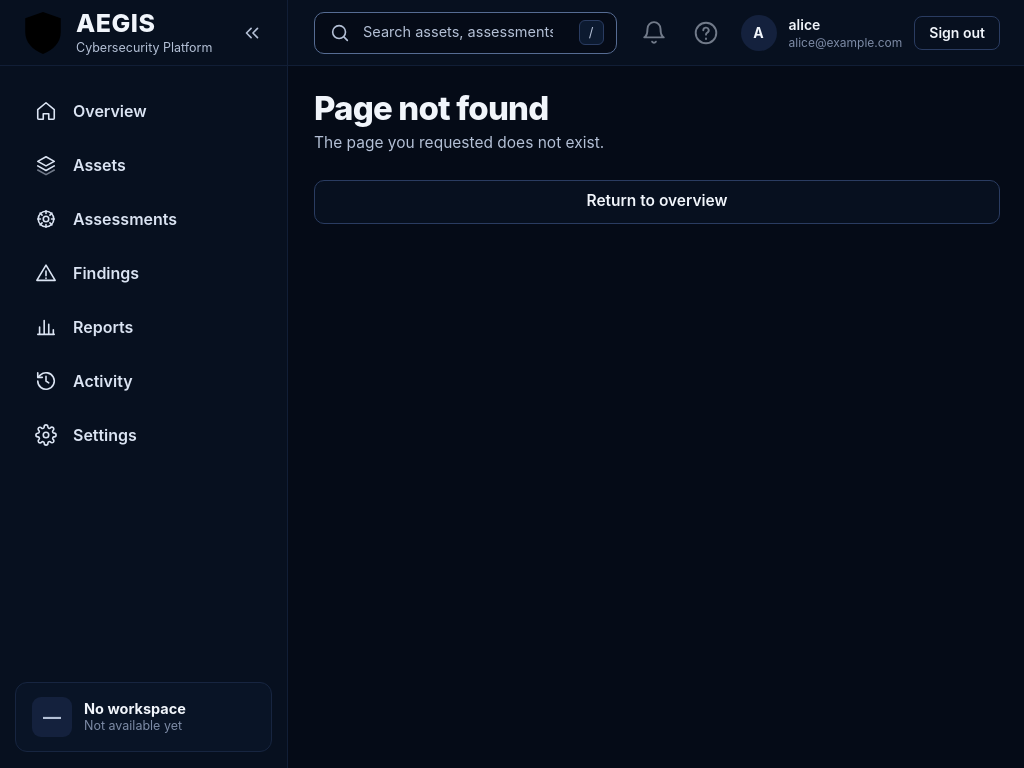
Test: application routes › shows the not-found page for unknown paths, with navigation still available
The width and height of the screenshot is (1024, 768).
Expected: the heading "Page not found" is shown, [314,88,548,128]
Expected: the navigation bar named "Primary" is shown, [35,100,177,446]
Click the link "Return to overview" at point(657, 202), box [314,180,1000,224]
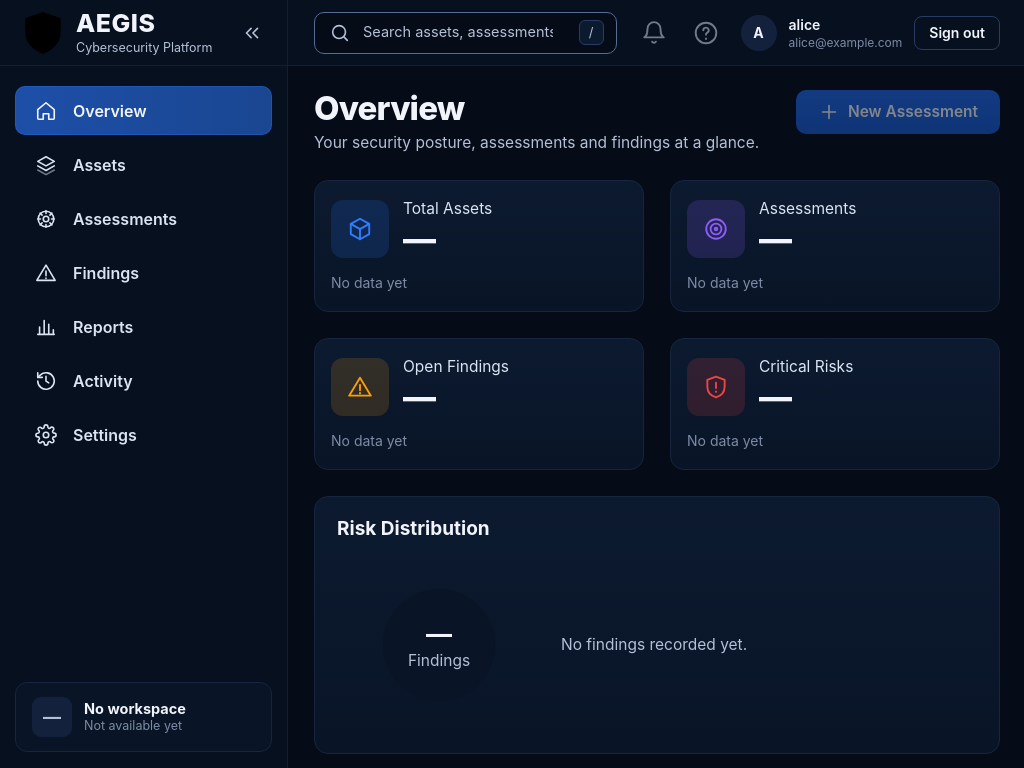
Expected: the heading "Overview" is shown, [314,88,464,128]
